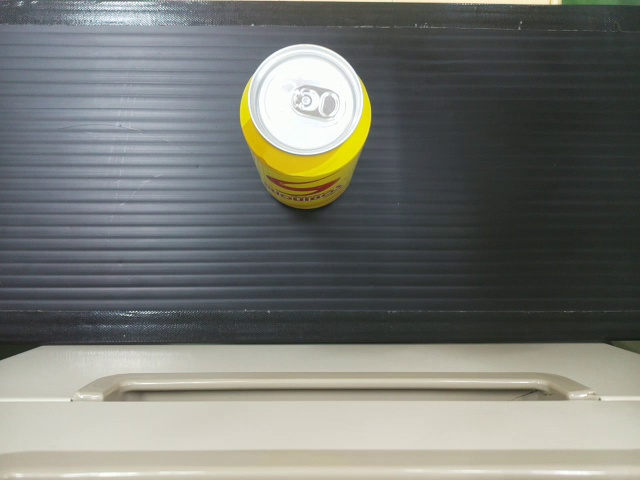can: (235, 44, 370, 208)
